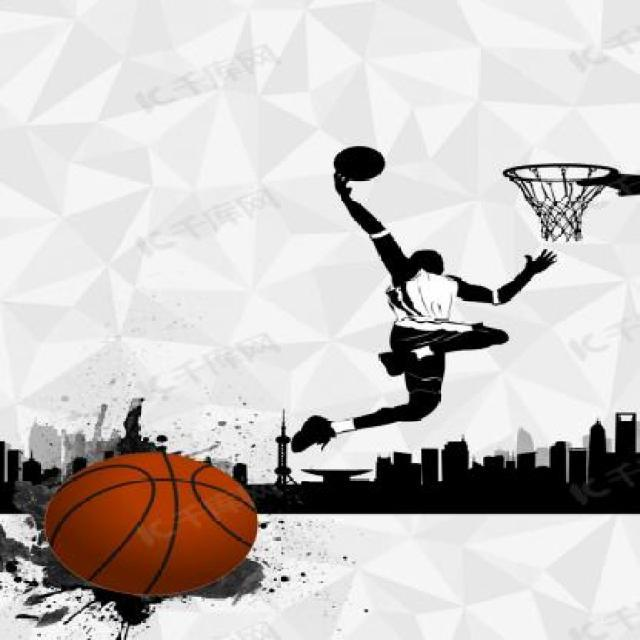basketball: (44, 451, 260, 597)
